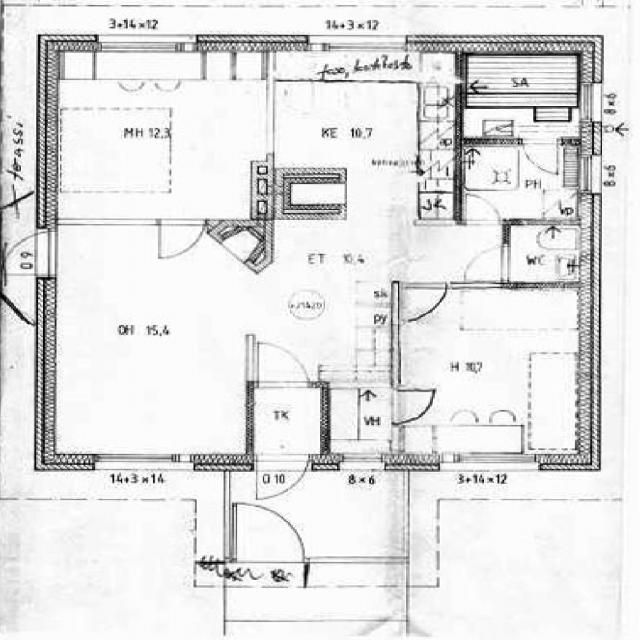door: (236, 502, 303, 562), (256, 452, 309, 504), (258, 340, 308, 388), (0, 233, 55, 274), (402, 281, 445, 323), (159, 219, 203, 260), (460, 247, 510, 280), (392, 390, 440, 423), (466, 191, 500, 225), (522, 140, 556, 171)
